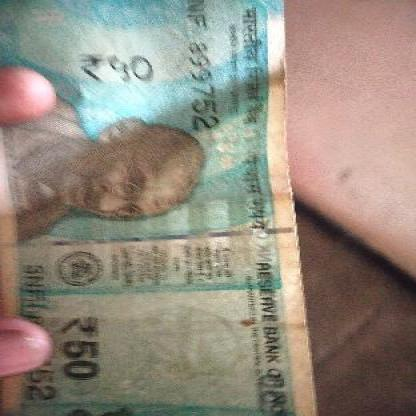New50Front: (1, 1, 308, 415)
